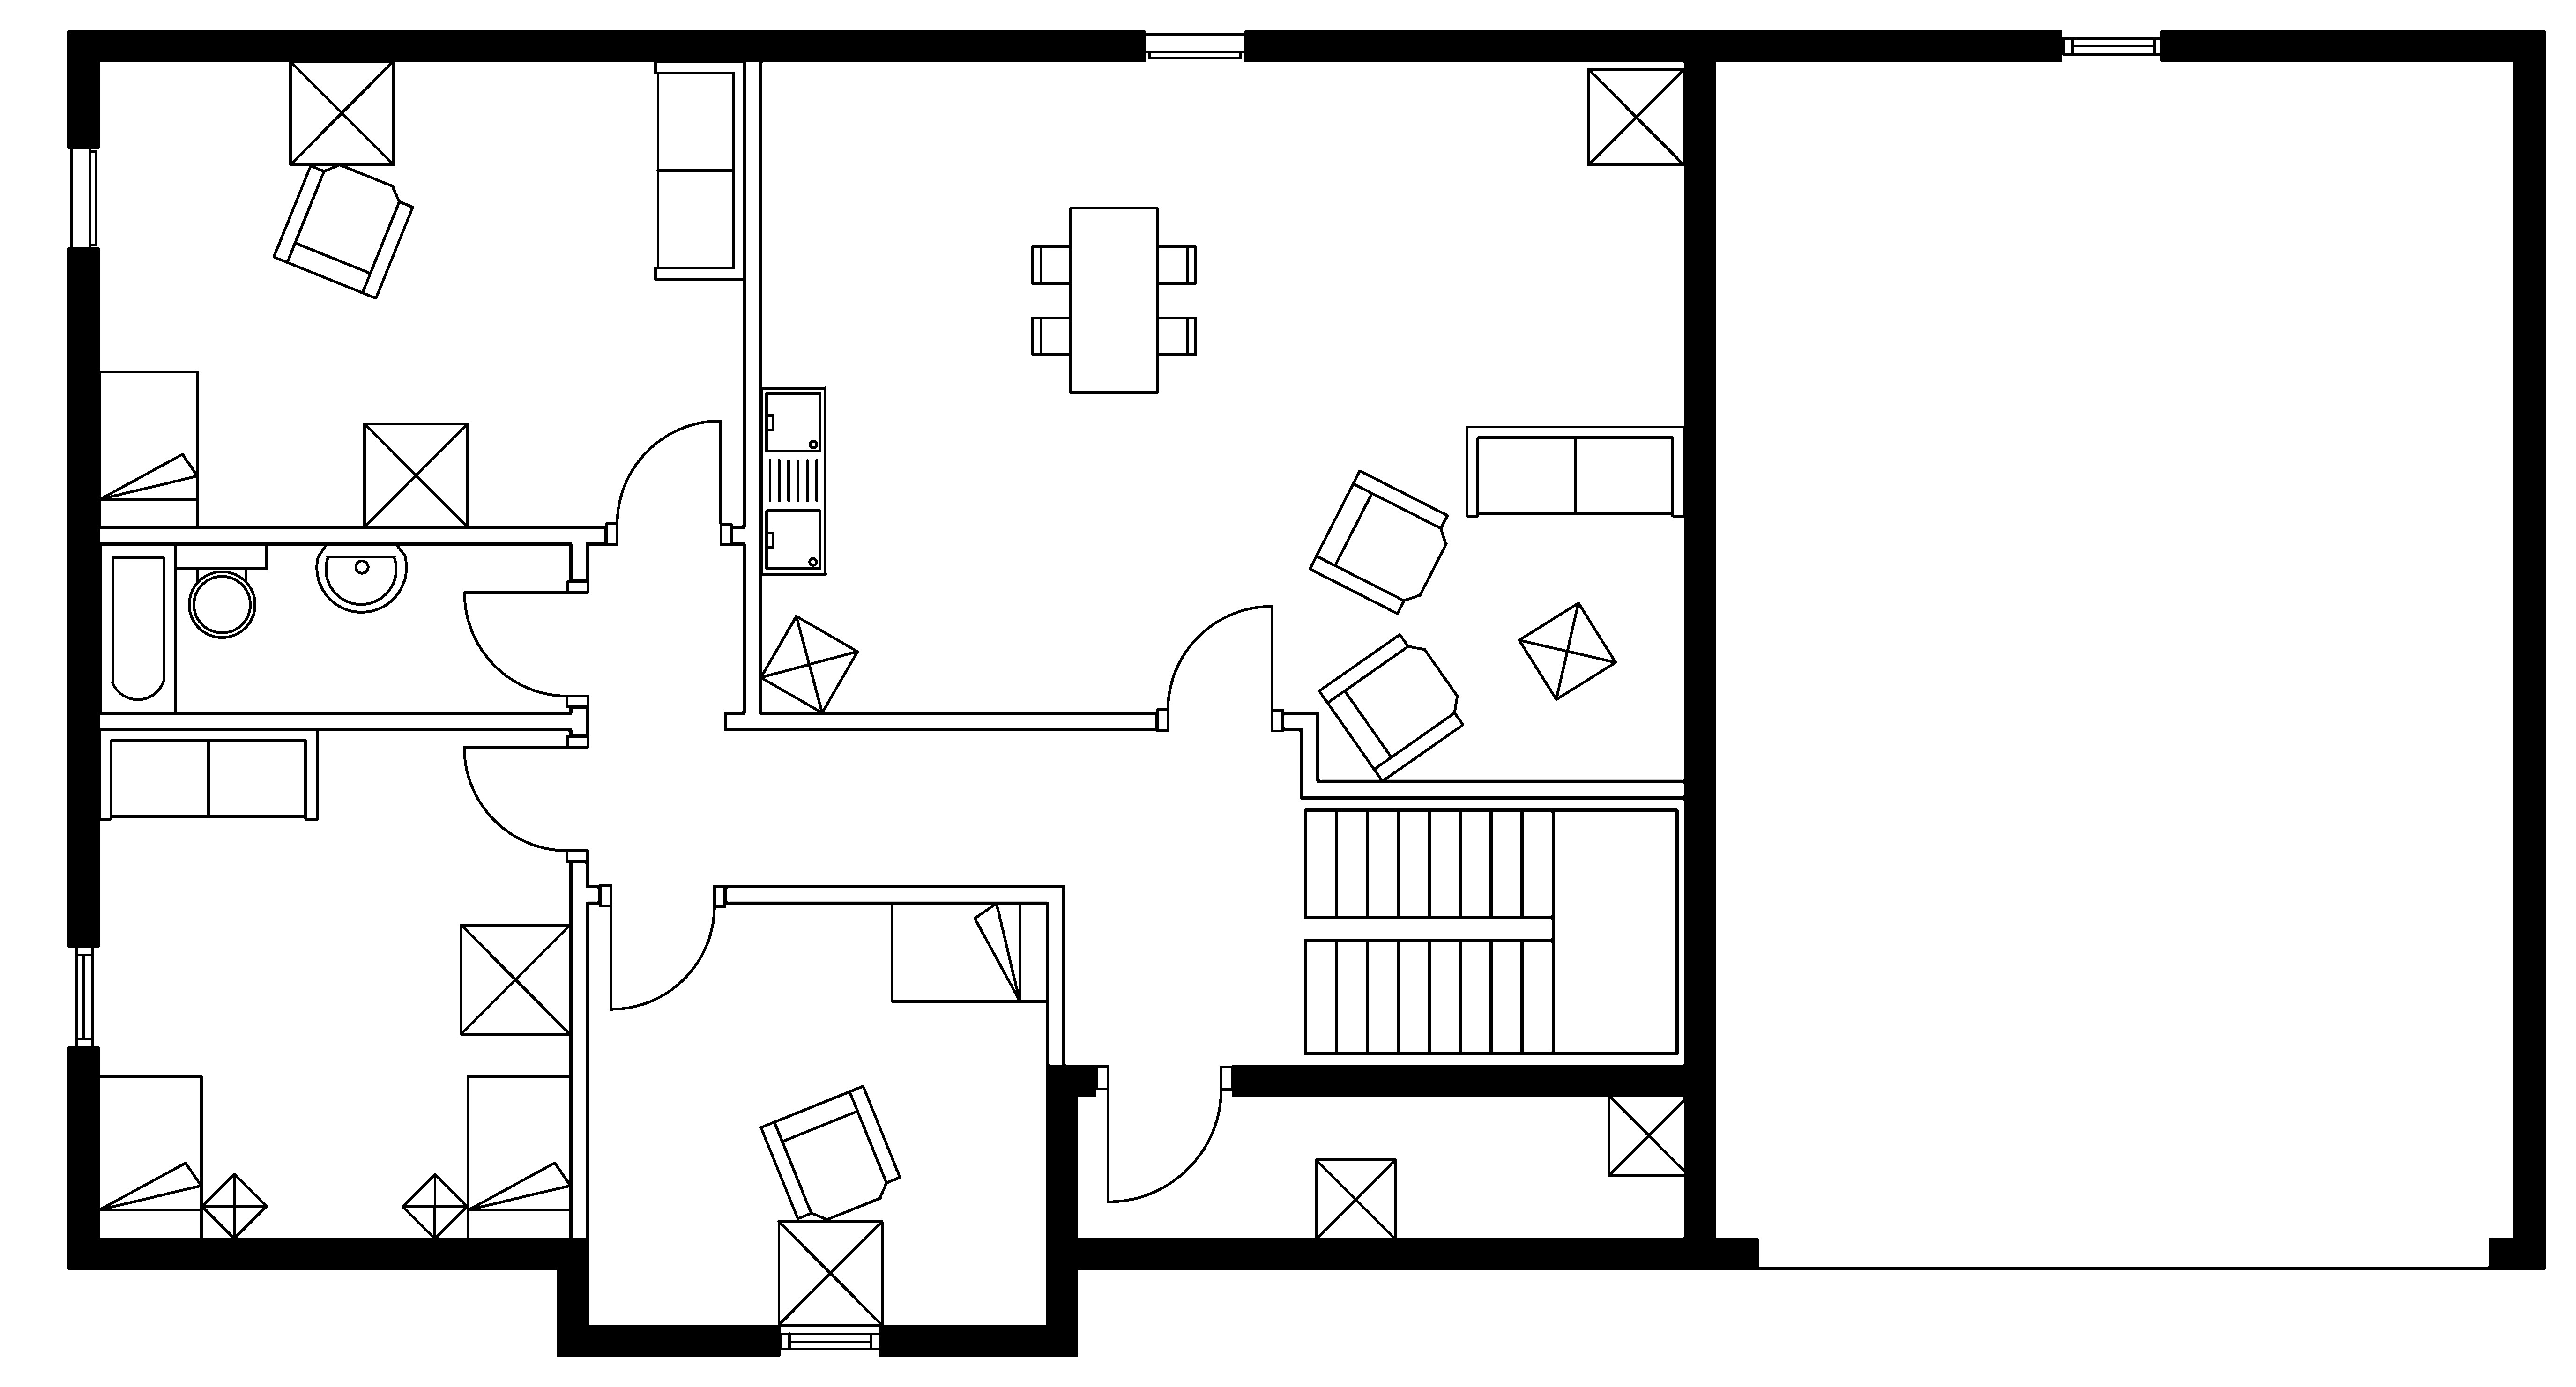armchair: (1317, 632, 1464, 782), (1307, 468, 1449, 615), (272, 162, 415, 301), (758, 1083, 902, 1221)
bed: (96, 1074, 203, 1240), (465, 1074, 572, 1240), (97, 369, 200, 530), (890, 900, 1049, 1003)
coffee_table: (458, 922, 572, 1035), (362, 422, 470, 530), (287, 58, 395, 166), (776, 1220, 883, 1327), (758, 613, 859, 714), (1517, 601, 1618, 702), (1585, 67, 1686, 167), (1314, 1156, 1397, 1240), (1607, 1093, 1691, 1177), (400, 1172, 470, 1240), (200, 1172, 268, 1240)
dining_table: (1030, 205, 1197, 395)
large_sink: (173, 541, 268, 639)
large_sofa: (1464, 424, 1686, 518), (653, 60, 746, 282), (97, 728, 319, 820)
small_sink: (316, 541, 407, 613)
tub: (97, 541, 178, 714)
twin_sink: (758, 384, 827, 576)
